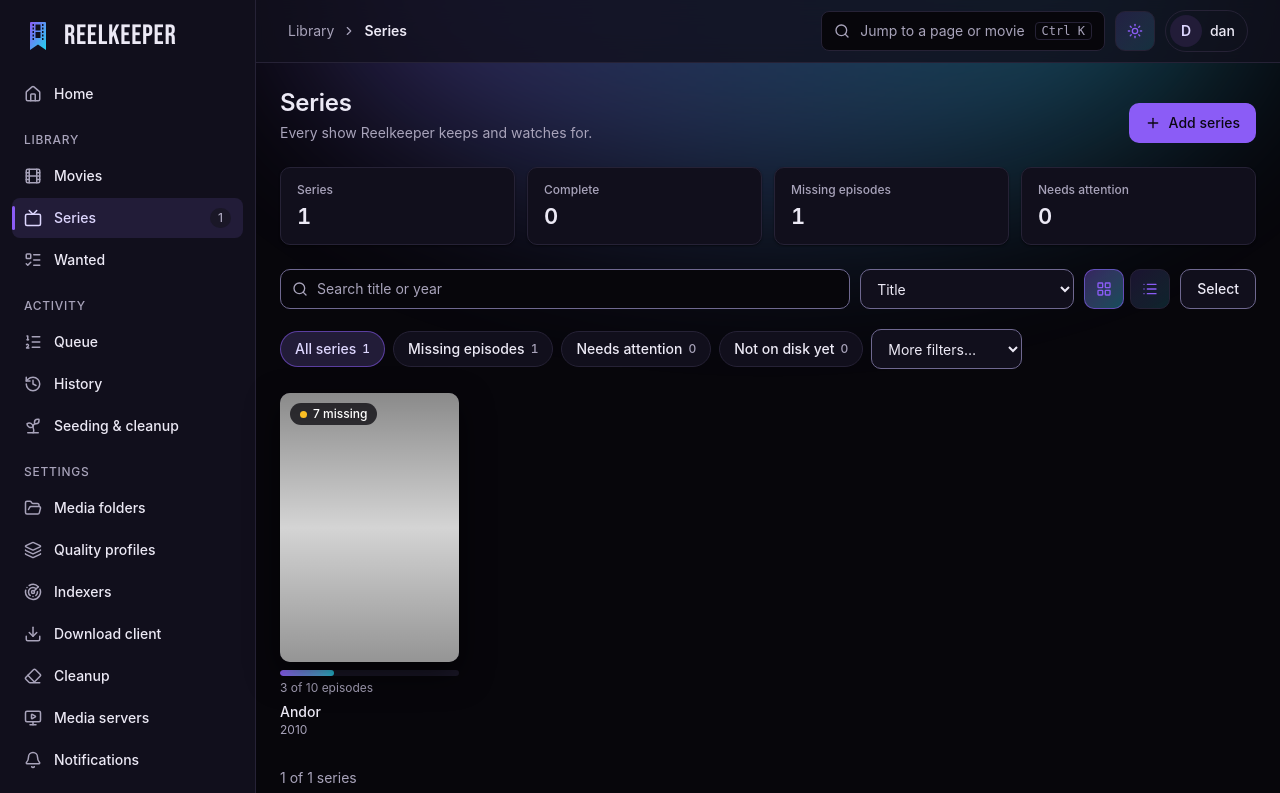
Scenario: add series dialog › searches TMDB and adds to a TV folder with a series-capable profile
The width and height of the screenshot is (1280, 793).
Click the button "Add series": (1192, 123) left=1129, top=103, right=1256, bottom=143
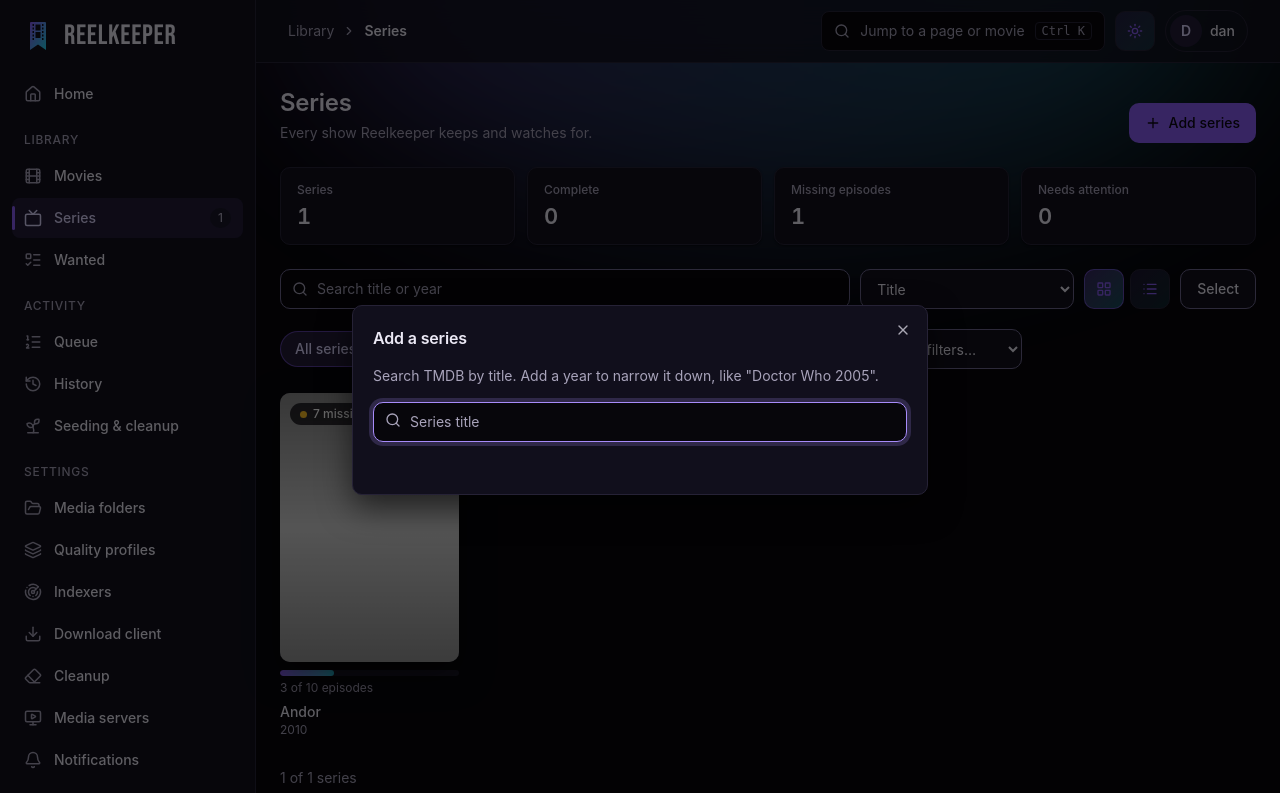
In the field labelled "Series title": (640, 422) left=373, top=402, right=907, bottom=442, type "doctor who 2005"
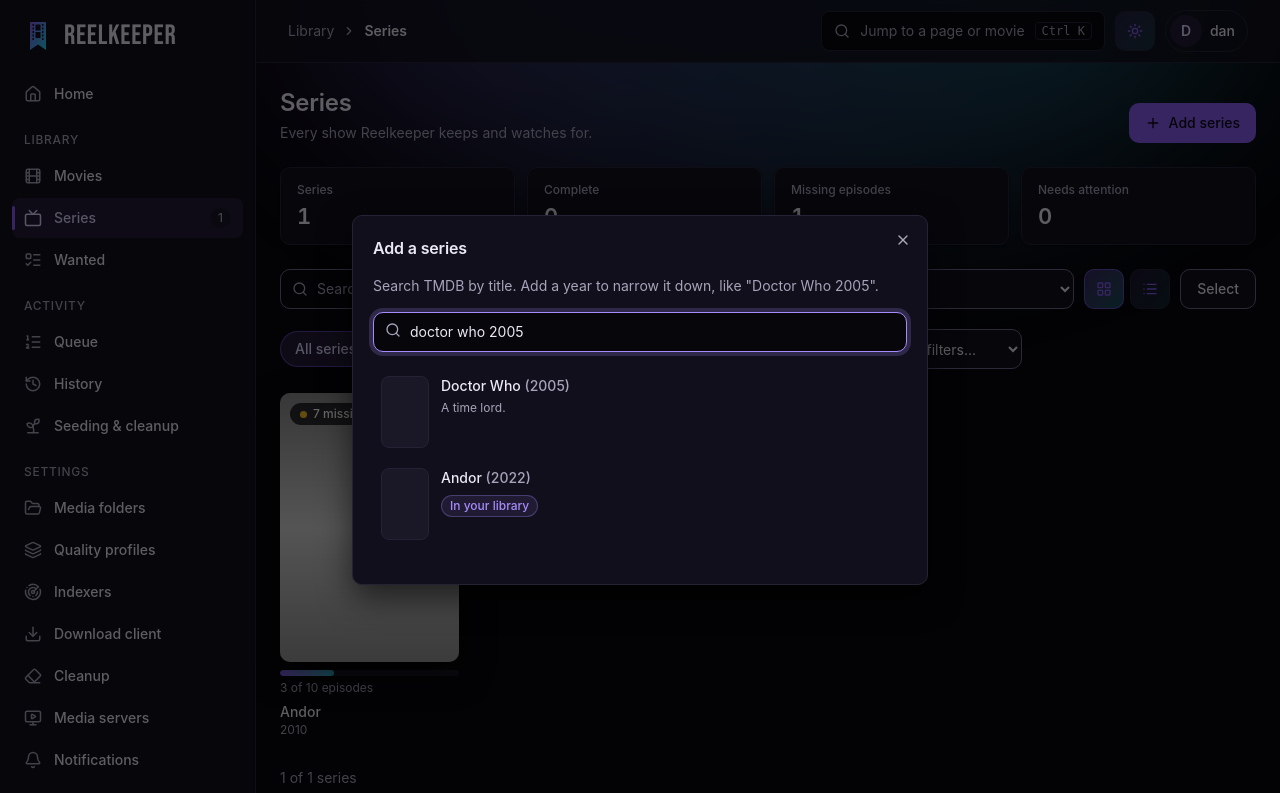
Expected: the text "Doctor Who" is shown, left=441, top=377, right=521, bottom=394
Expected: the text "In your library" is shown, left=441, top=495, right=538, bottom=517
Click the text "Doctor Who": (506, 386) left=441, top=376, right=570, bottom=396
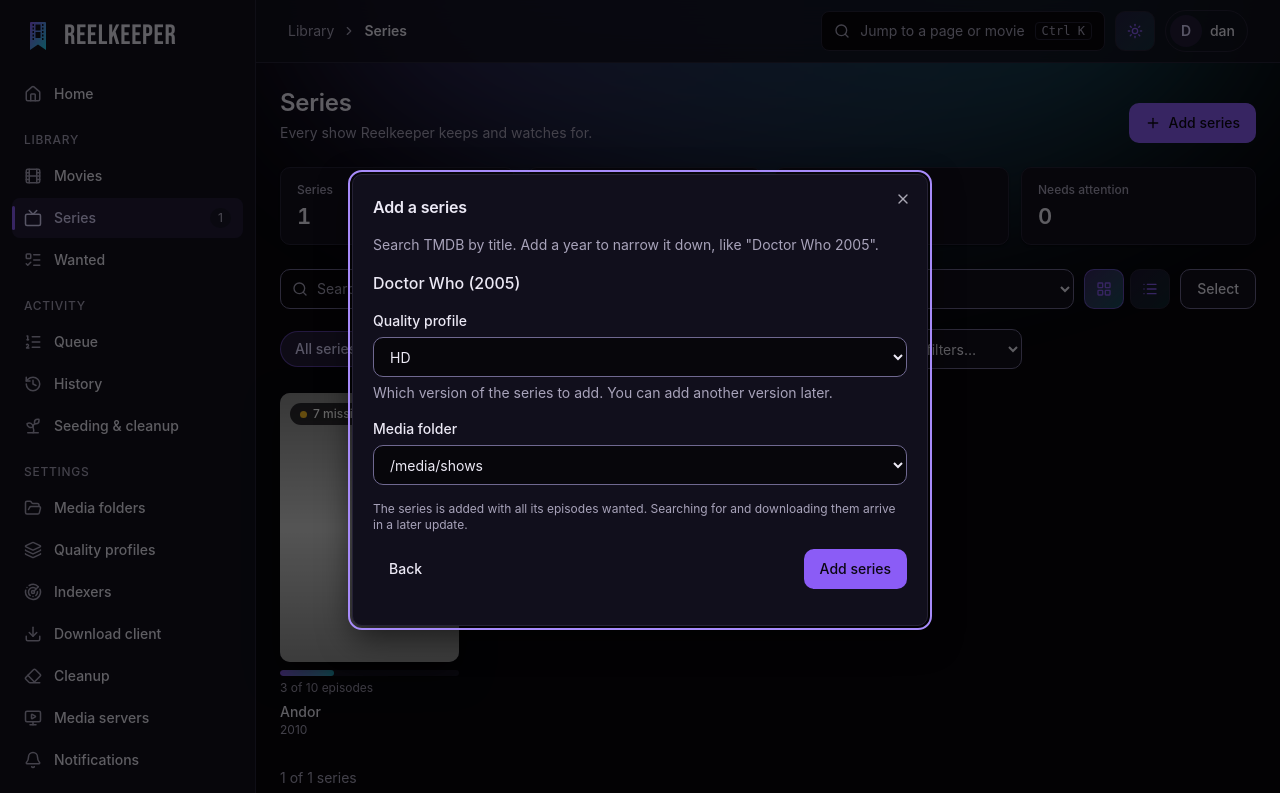
Click the button "Add series": (855, 569) left=804, top=549, right=907, bottom=589
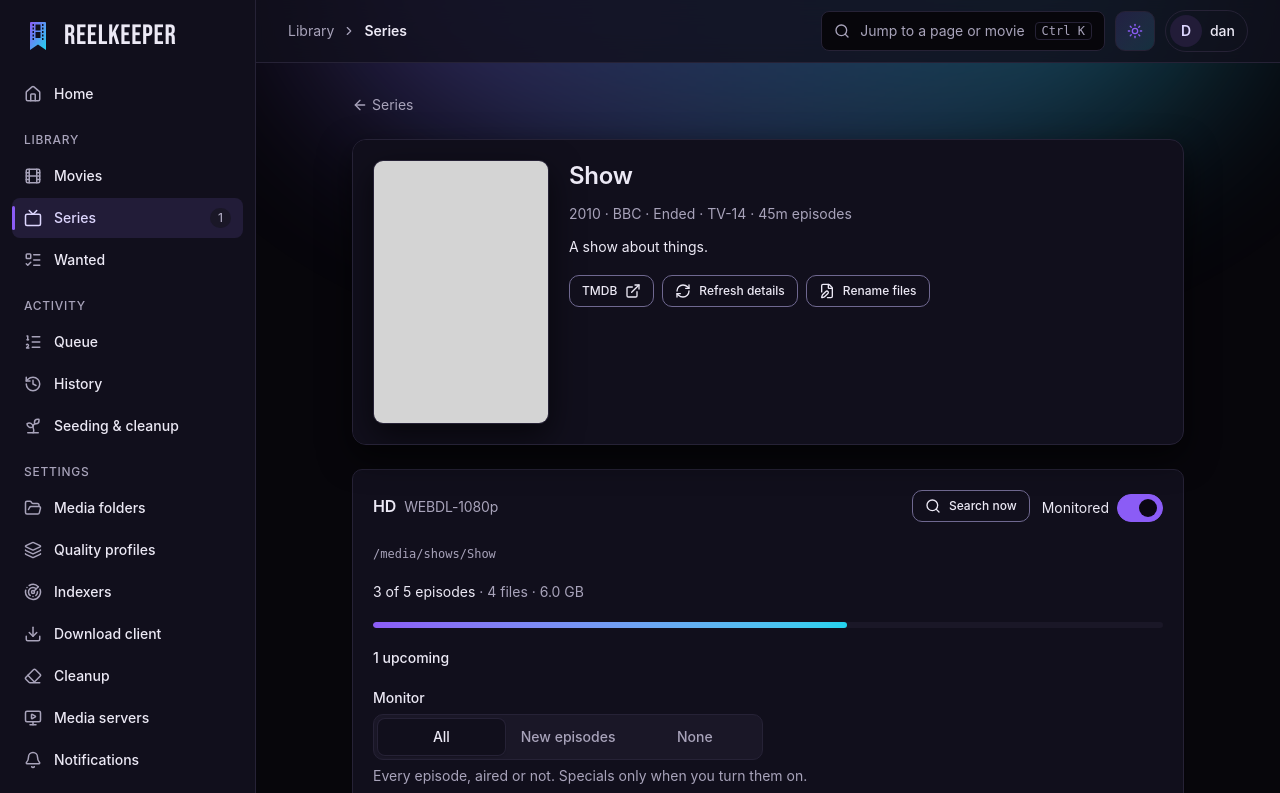
Expected: the heading "Show" is shown, left=569, top=161, right=633, bottom=190
